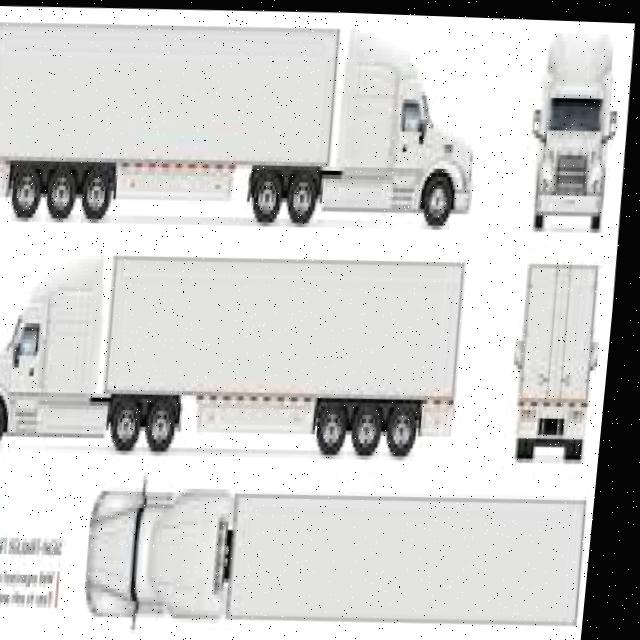truck: (0, 236, 477, 465), (0, 9, 490, 230), (90, 475, 600, 632), (515, 255, 611, 462), (529, 23, 623, 230)
